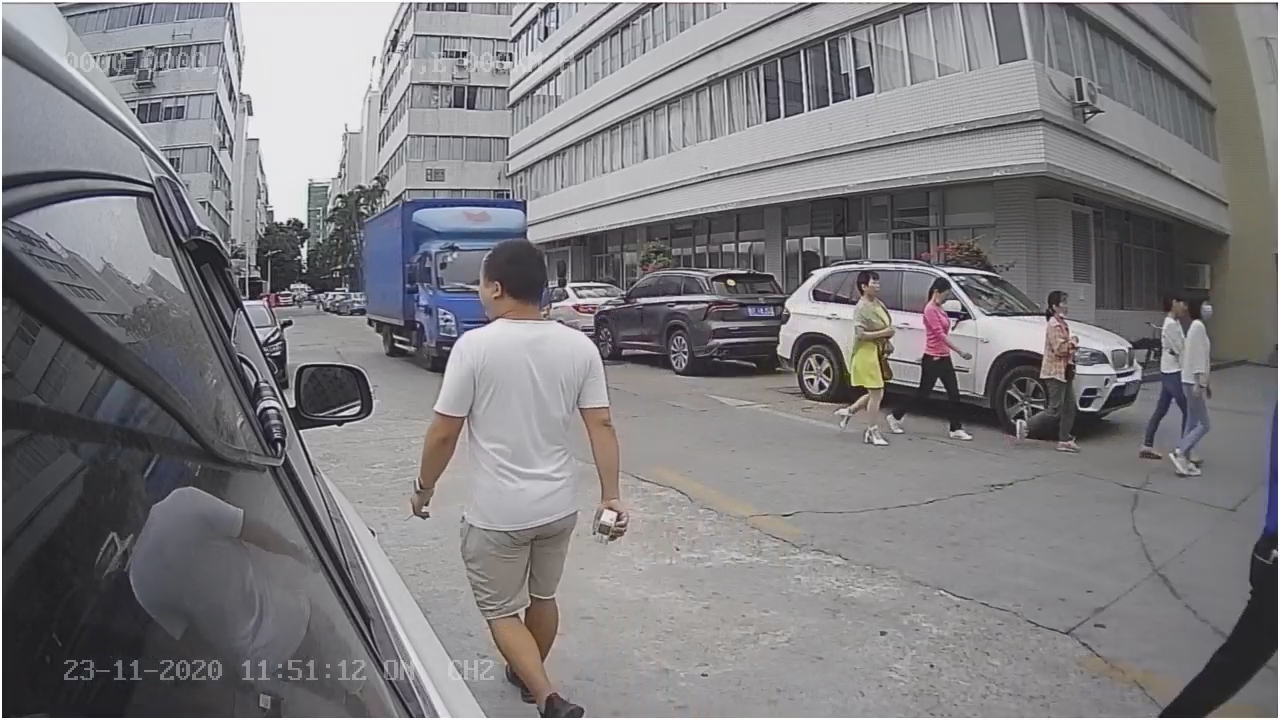person: (821, 265, 901, 445), (1012, 279, 1084, 457)
